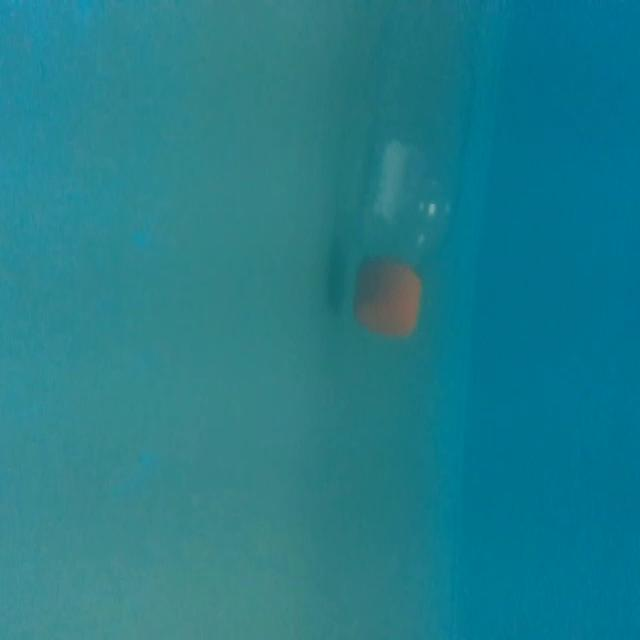plastic bottle: (321, 0, 508, 376)
